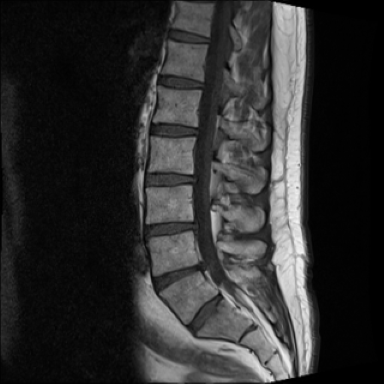Degenerative Disc Disease (DDD): (138, 166, 200, 190)
Lumbar Disc Bulge (LDB): (143, 254, 209, 297), (139, 213, 202, 240)
Normal IVD: (180, 288, 226, 339), (150, 66, 207, 94), (141, 117, 203, 140), (162, 25, 214, 48)
Spinal Stenosis (SS): (184, 208, 202, 237), (187, 168, 206, 190), (192, 254, 210, 277)
